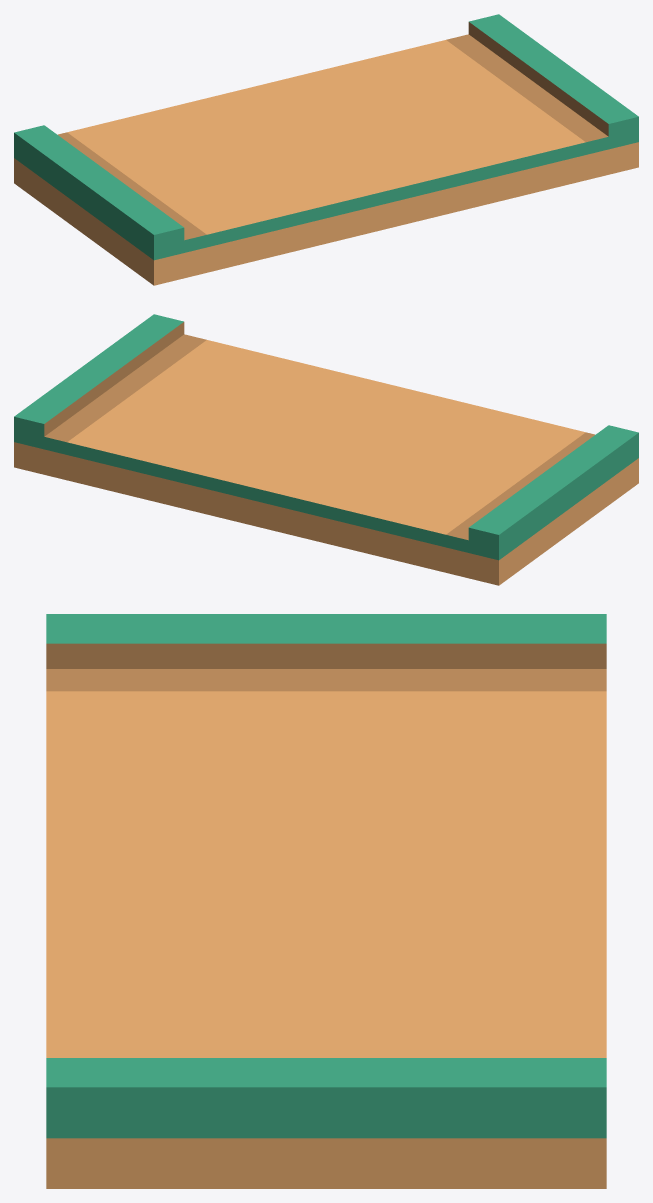
Rendered from tile_wideStraight.dae.
3 views of the same model, one above another, from view 1: azimuth 30°, elevation 25°; view 2: azimuth 150°, elevation 25°; view 3: azimuth 270°, elevation 25° (orthographic). The views are drawn at different scales.
Parts seen in each view (by area): view 1: tile_wideStraight; view 2: tile_wideStraight; view 3: tile_wideStraight.
Boxes of the visible parts, bbox=[...] form: tile_wideStraight: bbox=[14, 14, 638, 285]; tile_wideStraight: bbox=[14, 314, 638, 585]; tile_wideStraight: bbox=[46, 614, 606, 1188].
Size of the model in its own units: 2 by 0.2 by 1.
